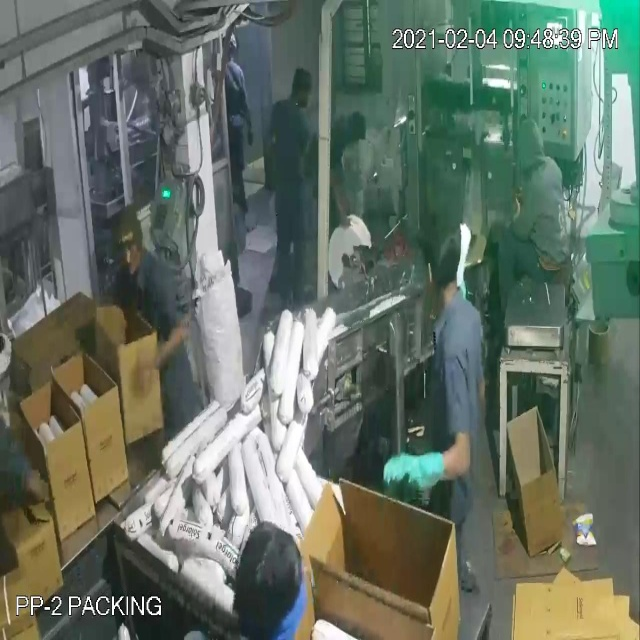Guantes: (368, 434, 449, 514)
Sin_guantes: (127, 321, 199, 403), (323, 160, 351, 237)
